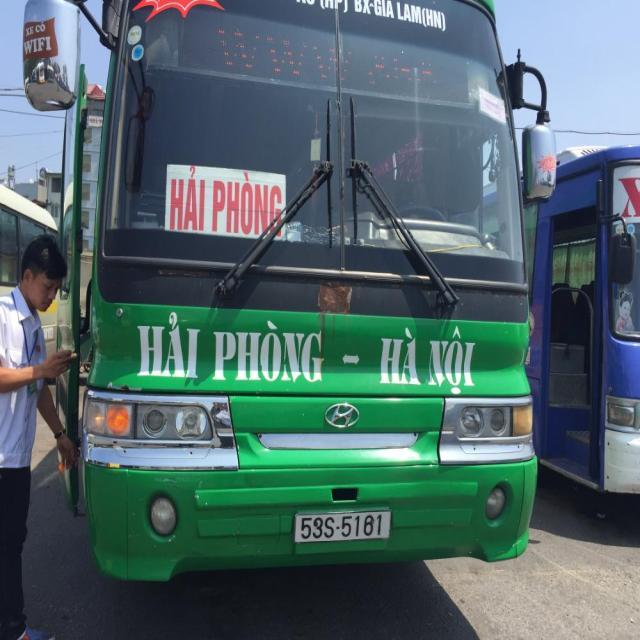car: (41, 3, 553, 596), (508, 137, 640, 547)
plate: (289, 506, 397, 548)
